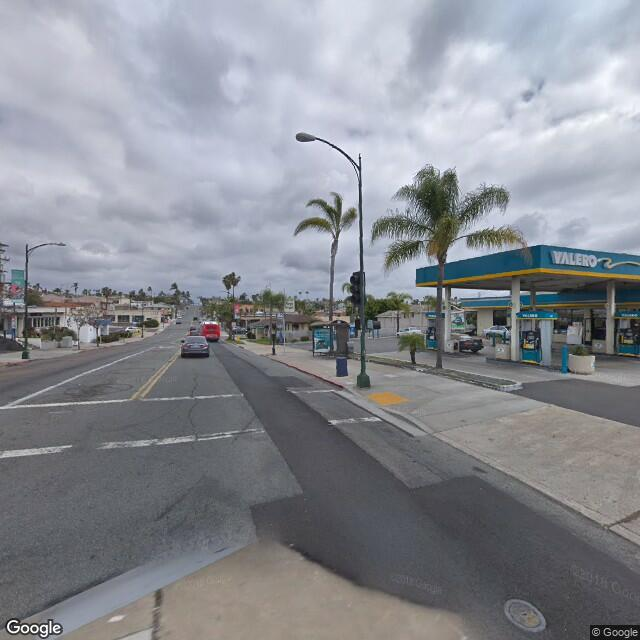light: (293, 130, 319, 144)
road line: (125, 349, 181, 411)
